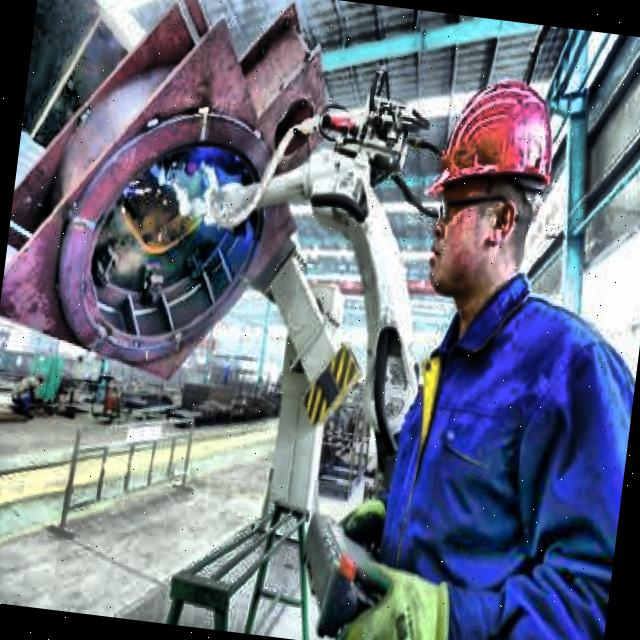helmet: (410, 51, 578, 321)
